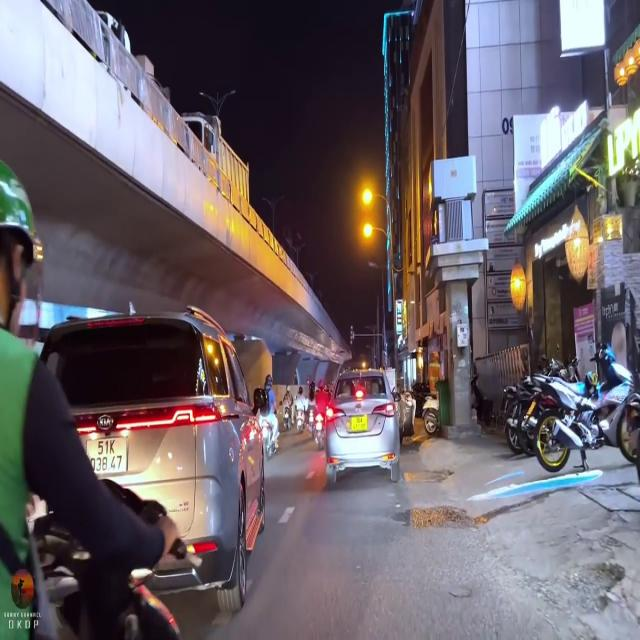bien_trang: (87, 436, 128, 474)
bien_vang: (350, 414, 367, 431)
